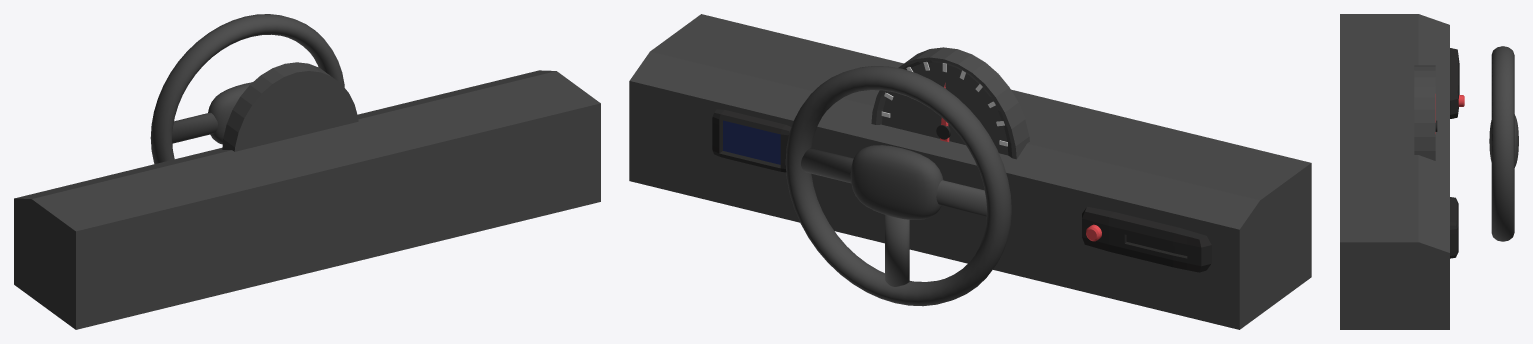
File: armatur und lenkrad (1).fbx
The picture shows the model from 3 angles, left to right: view 1: azimuth 30°, elevation 25°; view 2: azimuth 150°, elevation 25°; view 3: azimuth 270°, elevation 25°; orthographic projection. The views are drawn at different scales.
Parts seen in each view (by area): view 1: Cube, lenkrad, tacho; view 2: Cube, lenkrad, tacho, radio, uhr; view 3: Cube, lenkrad, tacho, radio, uhr.
Part boxes in pixels (left/top/right/bottom): Cube: left=14, top=70, right=600, bottom=329; lenkrad: left=150, top=14, right=344, bottom=164; tacho: left=222, top=62, right=358, bottom=151; Cube: left=629, top=14, right=1311, bottom=329; lenkrad: left=785, top=66, right=1011, bottom=306; tacho: left=871, top=47, right=1029, bottom=159; radio: left=1082, top=206, right=1211, bottom=272; uhr: left=712, top=109, right=791, bottom=172; Cube: left=1340, top=14, right=1449, bottom=329; lenkrad: left=1489, top=46, right=1518, bottom=241; tacho: left=1414, top=65, right=1435, bottom=160; radio: left=1450, top=48, right=1459, bottom=118; uhr: left=1450, top=197, right=1458, bottom=258.
Bounding box in the file's own units: 295 × 107 × 97.61.
